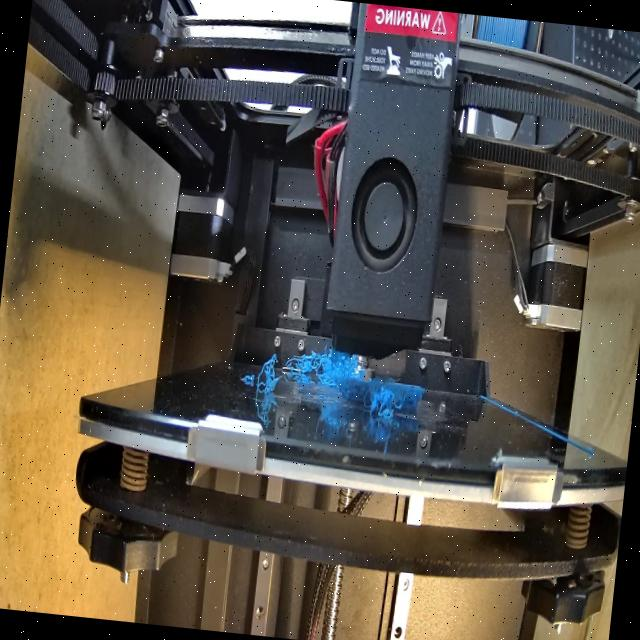spaghetti: (278, 344, 365, 389), (359, 368, 403, 428), (248, 351, 280, 398)
